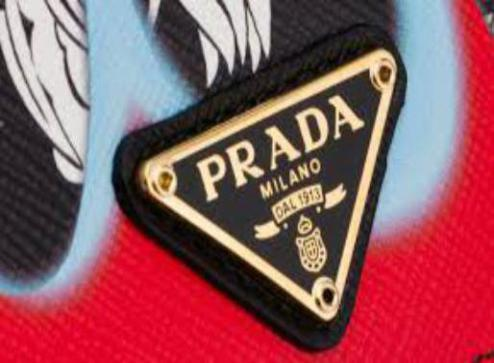PRADA: (198, 86, 361, 204)
